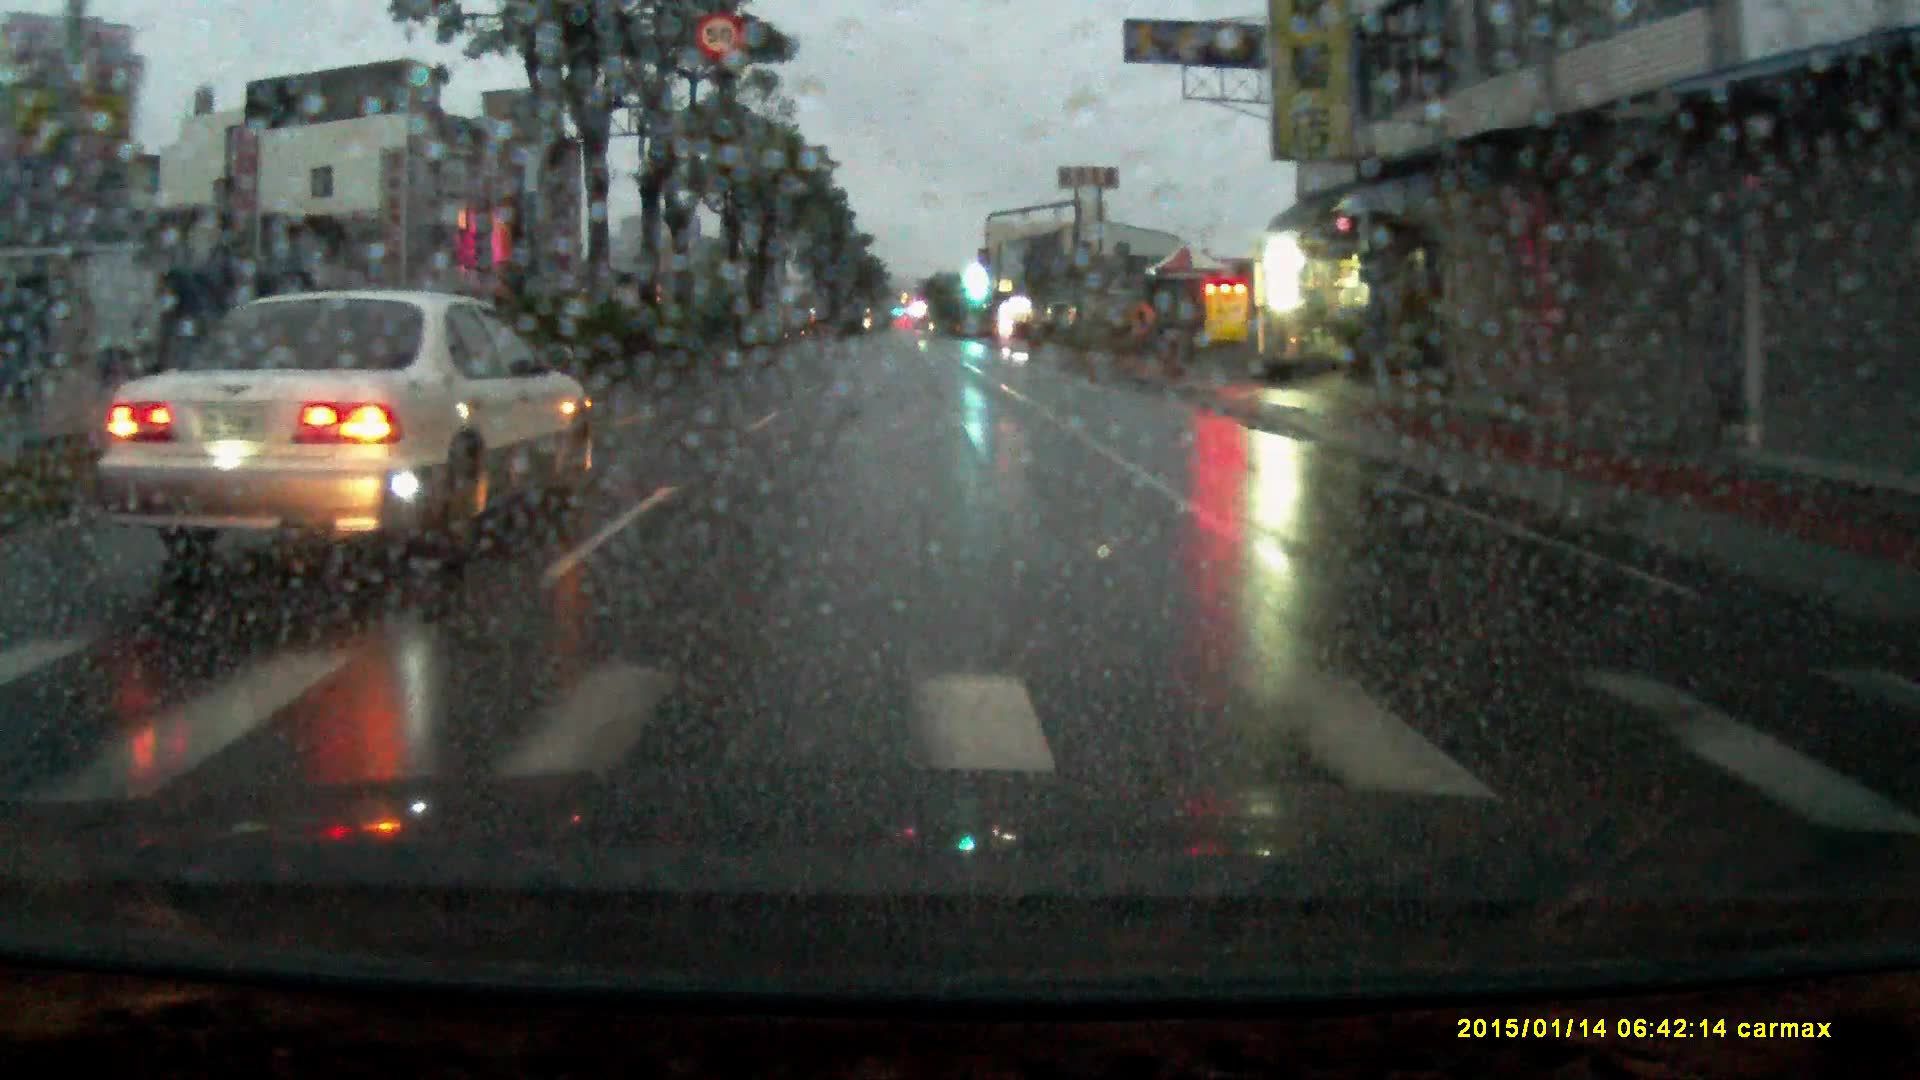vehicle: (94, 287, 593, 574)
